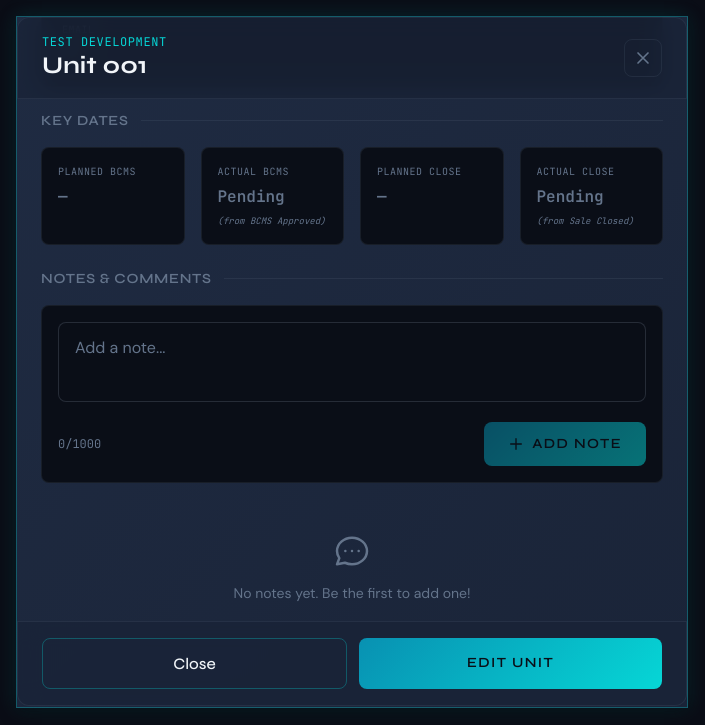
Test: UnitDetailModal › add note functionality › adds note successfully
(page scrolled)
Type "New test note" into the text box with placeholder "Add a note..." at (352, 362), box [58,322,646,402]
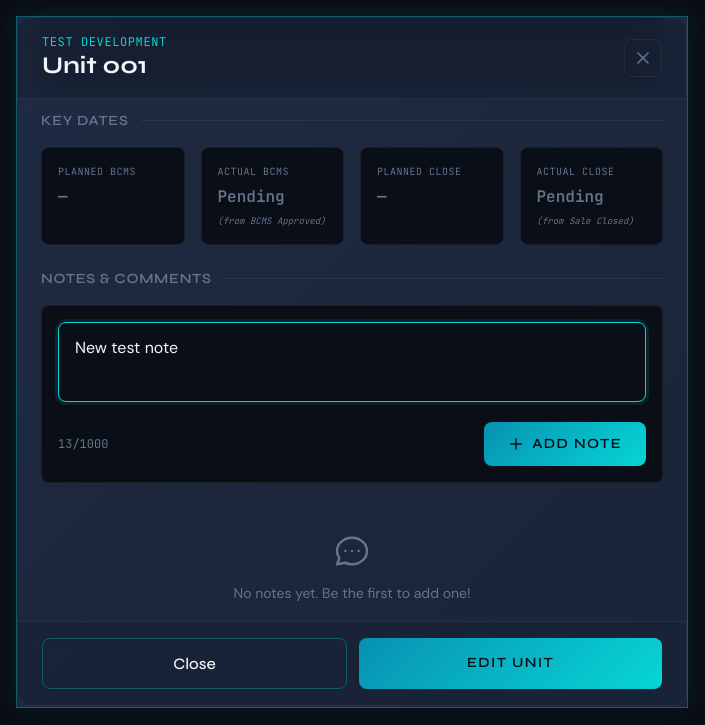
Click the button "Add Note" at (565, 444), box [484,422,646,466]
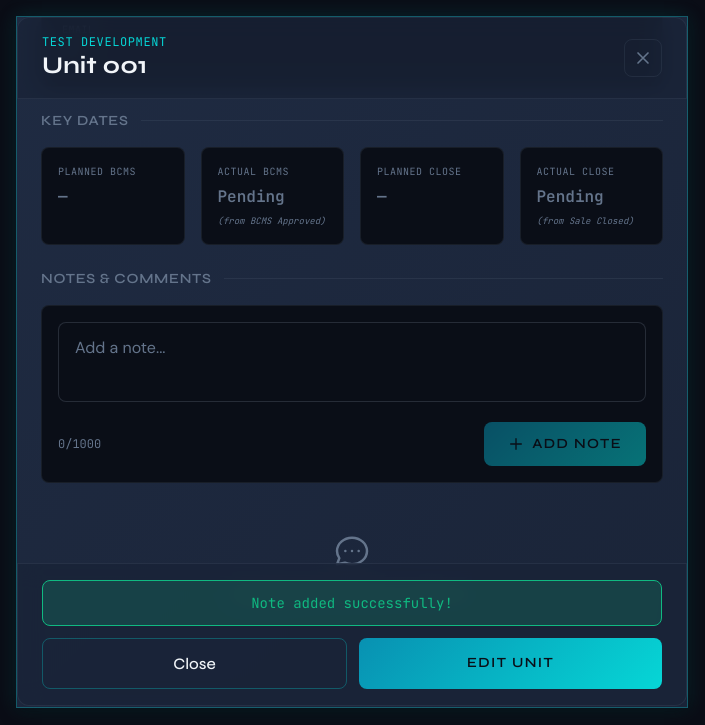
Now the text "Note added successfully!" is shown, box [251,594,453,612]
